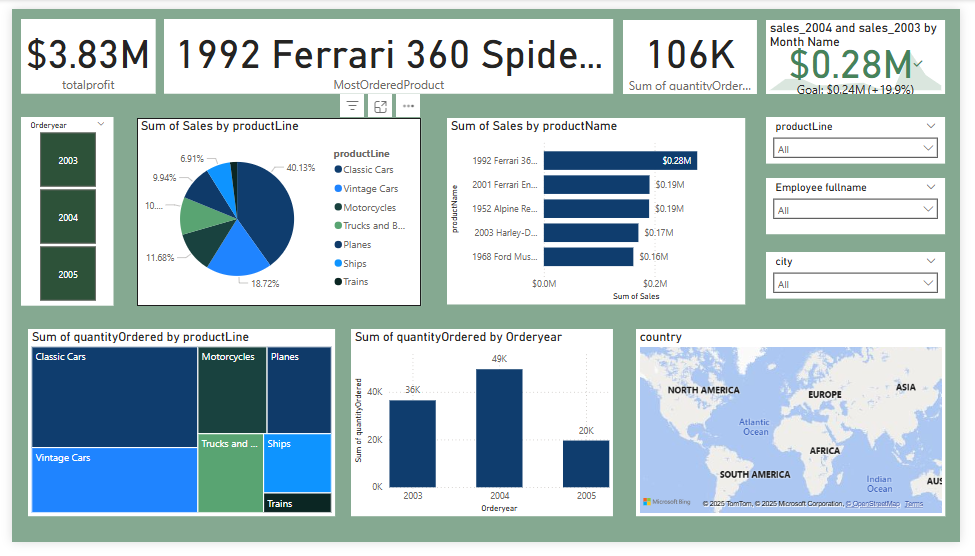

What the dashboard file says about the page in this screenshot:
{"tool":"powerbi","page":{"name":"Page 1","canvas":[1280,720],"ordinal":0},"visuals":[{"type":"card","fields":{"Values":["order details.totalprofit"]},"box":[11.9,13.4,182.1,101.5],"z":0},{"type":"barChart","fields":{"Category":["products.productName"],"Y":["Sum(order details.Sales)"]},"box":[588.1,147.8,403,252.2],"z":1000},{"type":"pieChart","fields":{"Category":["productlines.productLine"],"Y":["Sum(order details.Sales)"]},"box":[168.7,147.8,383.6,253.7],"z":2000},{"type":"slicer","fields":{"Values":["orders.Orderyear"]},"box":[11.9,146.3,125.4,255.2],"z":3000},{"type":"card","title":"Total Orders","fields":{"Values":["Sum(order details.quantityOrdered)"]},"box":[825.4,14.9,180.6,100],"z":4000},{"type":"card","fields":{"Values":["classic_models_dataset.MostOrderedProduct"]},"box":[206,13.4,607.5,101.5],"z":5000},{"type":"kpi","fields":{"Goal":["classic_models_dataset.sales_2003"],"TrendLine":["orders.Month Name"],"Indicator":["classic_models_dataset.sales_2004"]},"box":[1019.4,14.9,241.8,100],"z":6000},{"type":"treemap","fields":{"Group":["productlines.productLine"],"Values":["Sum(order details.quantityOrdered)"]},"box":[21.7,432.3,414.9,253],"z":7000},{"type":"columnChart","fields":{"Category":["orders.Orderyear"],"Y":["Sum(order details.quantityOrdered)"]},"box":[458.3,432.3,354.2,253],"z":8000},{"type":"slicer","fields":{"Values":["offices.city"]},"box":[1019.4,328.4,241.8,62.7],"z":9000},{"type":"slicer","fields":{"Values":["employees.Employee fullname"]},"box":[1019.4,228.4,241.8,76.1],"z":10000},{"type":"slicer","fields":{"Values":["productlines.productLine"]},"box":[1019.4,146.3,241.8,62.7],"z":11000},{"type":"map","fields":{"Series":["offices.country"]},"box":[842.9,432.3,417.8,253],"z":12000}]}

Visuals, with their boxes in screenshot pixels (x1, y1, x2, y2), scaled from the page's 1280x720 canvas onto the 975x556 screenshot:
card - order details.totalprofit: <bbox>9, 10, 148, 89</bbox>
barChart - products.productName x Sum(order details.Sales): <bbox>448, 114, 755, 309</bbox>
pieChart - productlines.productLine x Sum(order details.Sales): <bbox>129, 114, 421, 310</bbox>
slicer - orders.Orderyear: <bbox>9, 113, 105, 310</bbox>
"Total Orders" card: <bbox>629, 12, 766, 89</bbox>
card - classic_models_dataset.MostOrderedProduct: <bbox>157, 10, 620, 89</bbox>
kpi - classic_models_dataset.sales_2003 x orders.Month Name: <bbox>776, 12, 961, 89</bbox>
treemap - productlines.productLine x Sum(order details.quantityOrdered): <bbox>17, 334, 333, 529</bbox>
columnChart - orders.Orderyear x Sum(order details.quantityOrdered): <bbox>349, 334, 619, 529</bbox>
slicer - offices.city: <bbox>776, 254, 961, 302</bbox>
slicer - employees.Employee fullname: <bbox>776, 176, 961, 235</bbox>
slicer - productlines.productLine: <bbox>776, 113, 961, 161</bbox>
map - offices.country: <bbox>642, 334, 960, 529</bbox>
